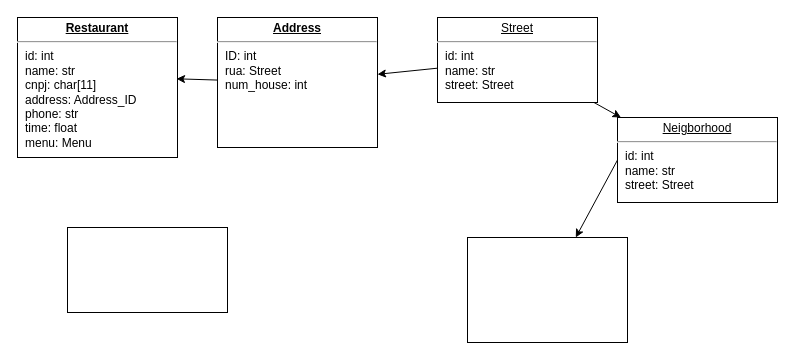
The diagram is 795 pixels wide and 360 high, and some of its shapes have lost their labels. Here are the shapes that lost their labels. From the top down, the centre of each, then its label:
At (147,269): "Menu id: int id_restaurant name_product: value_product:".
At (547,289): "State id: int name: str acronym: varchar[2] city: City".
